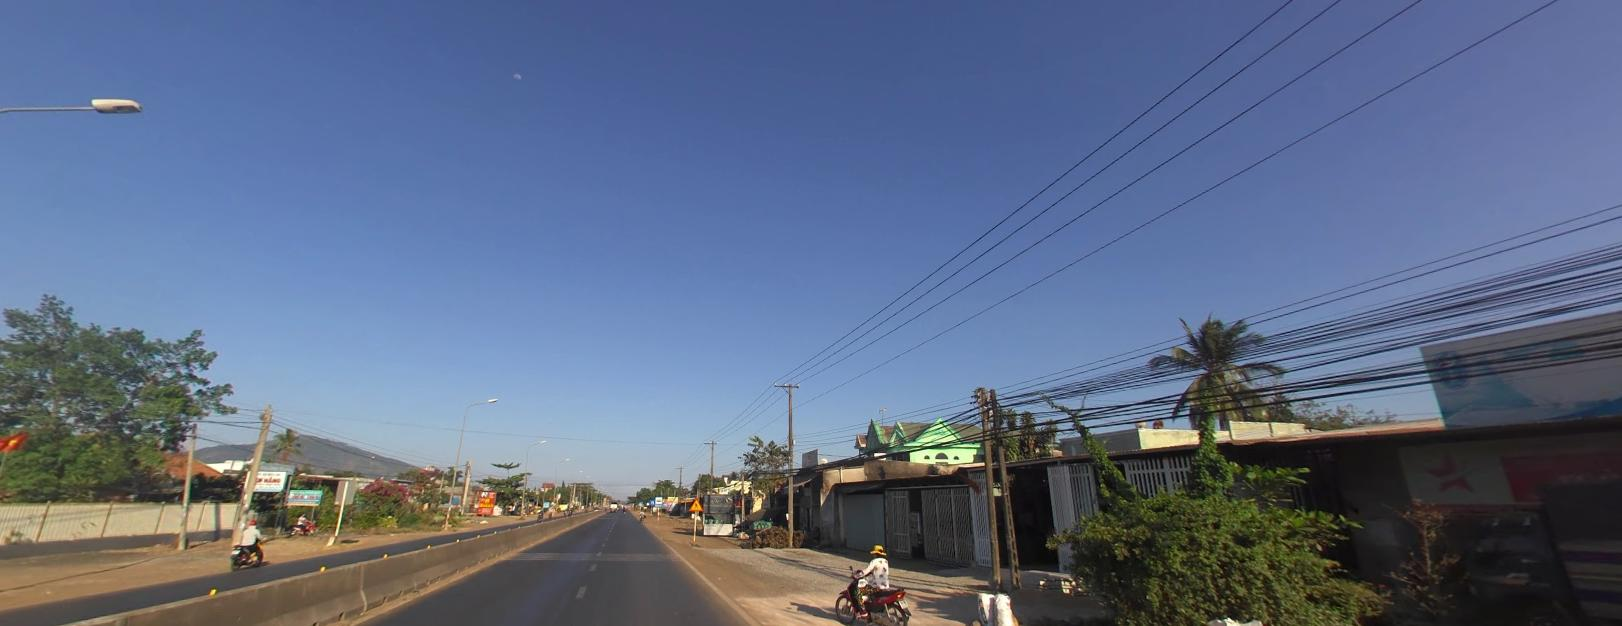Cam nguoc chieu: (606, 497, 609, 500)
Hieu lenh: (606, 501, 609, 503)
Nguy hiem: (689, 498, 703, 510)
